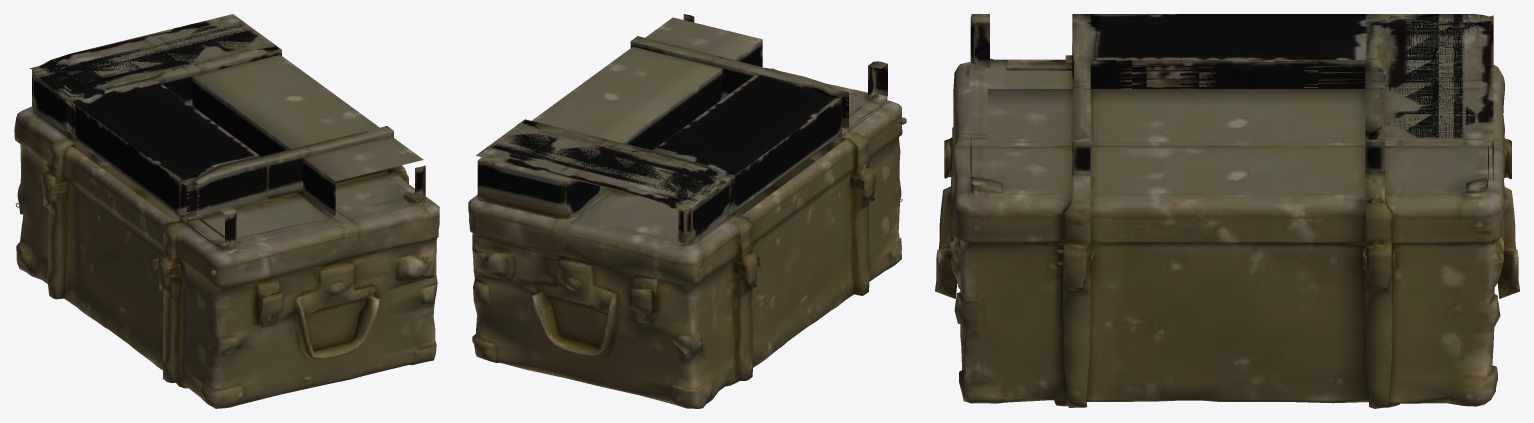
File: crate_military.glb
3 renders of one model, left to right at view 1: azimuth 30°, elevation 25°; view 2: azimuth 150°, elevation 25°; view 3: azimuth 270°, elevation 25°, orthographic. The views are drawn at different scales.
Visible parts, largest first — view 1: tripo_node_ae05ee3c-9343-4113-bb8f-1823af353218; view 2: tripo_node_ae05ee3c-9343-4113-bb8f-1823af353218; view 3: tripo_node_ae05ee3c-9343-4113-bb8f-1823af353218.
Boxes of the visible parts, left/top/right/bottom form: tripo_node_ae05ee3c-9343-4113-bb8f-1823af353218: left=14, top=14, right=439, bottom=408; tripo_node_ae05ee3c-9343-4113-bb8f-1823af353218: left=468, top=14, right=906, bottom=408; tripo_node_ae05ee3c-9343-4113-bb8f-1823af353218: left=935, top=14, right=1519, bottom=408.
Bounding box in the file's own units: 0.6595 × 0.5127 × 1.
Materials: 1 (1 with a texture image).
